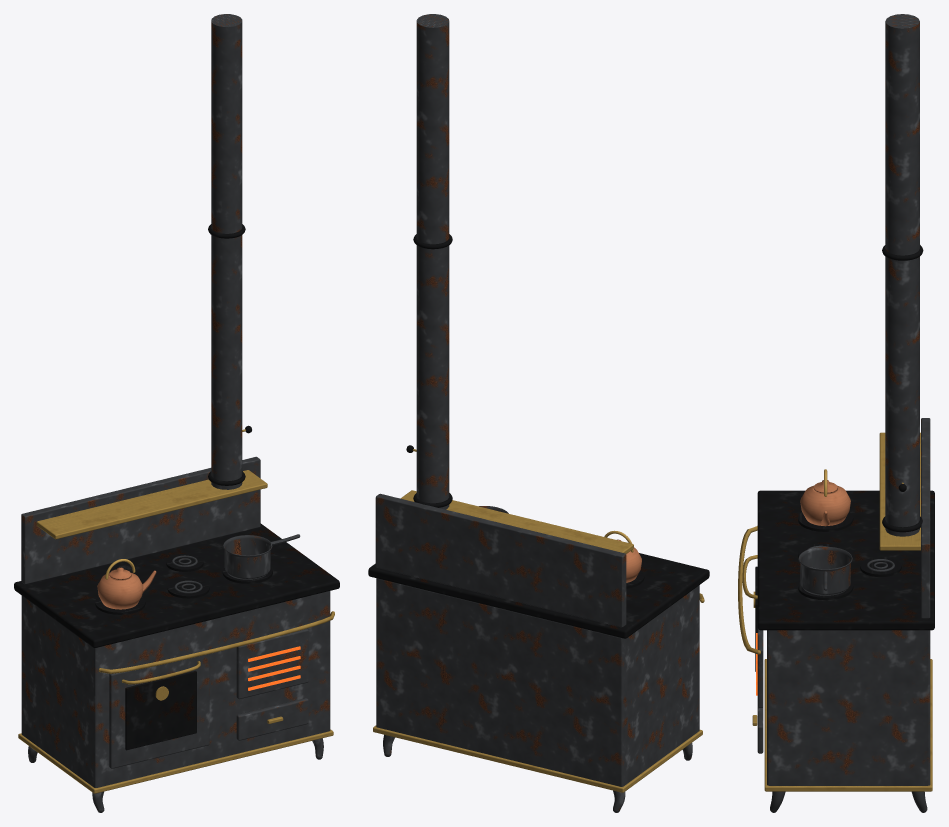
File: stove.glb
3 renders of one model, left to right at view 1: azimuth 30°, elevation 25°; view 2: azimuth 150°, elevation 25°; view 3: azimuth 270°, elevation 25°, orthographic. The views are drawn at different scales.
Visible parts, largest first — view 1: stove; view 2: stove; view 3: stove.
Part boxes in pixels (bbox=[...]): stove: bbox=[14, 14, 339, 812]; stove: bbox=[368, 14, 709, 812]; stove: bbox=[738, 14, 934, 812].
Size of the model in its own units: 1.36 by 3.71 by 0.8559.
6 materials, 5 textured.
